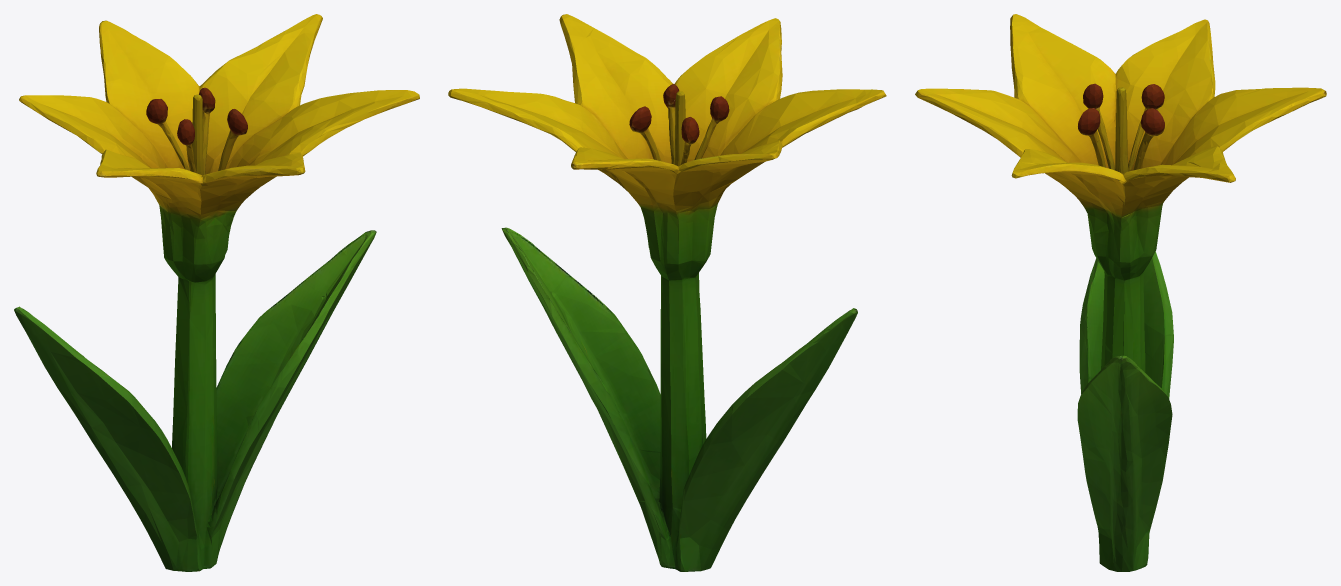
The model's file is glacier_lily.glb.
3 views of the same model, side by side, from view 1: azimuth 30°, elevation 25°; view 2: azimuth 150°, elevation 25°; view 3: azimuth 270°, elevation 25° (orthographic).
Visible parts, largest first — view 1: world; view 2: world; view 3: world.
Part boxes in pixels (box(x1,y1,x2,y2)): world: box(14, 14, 419, 571); world: box(448, 14, 886, 571); world: box(915, 14, 1326, 571).
Size of the model in its own units: 0.8029 by 1 by 0.7826.
Materials: 1 (1 with a texture image).
